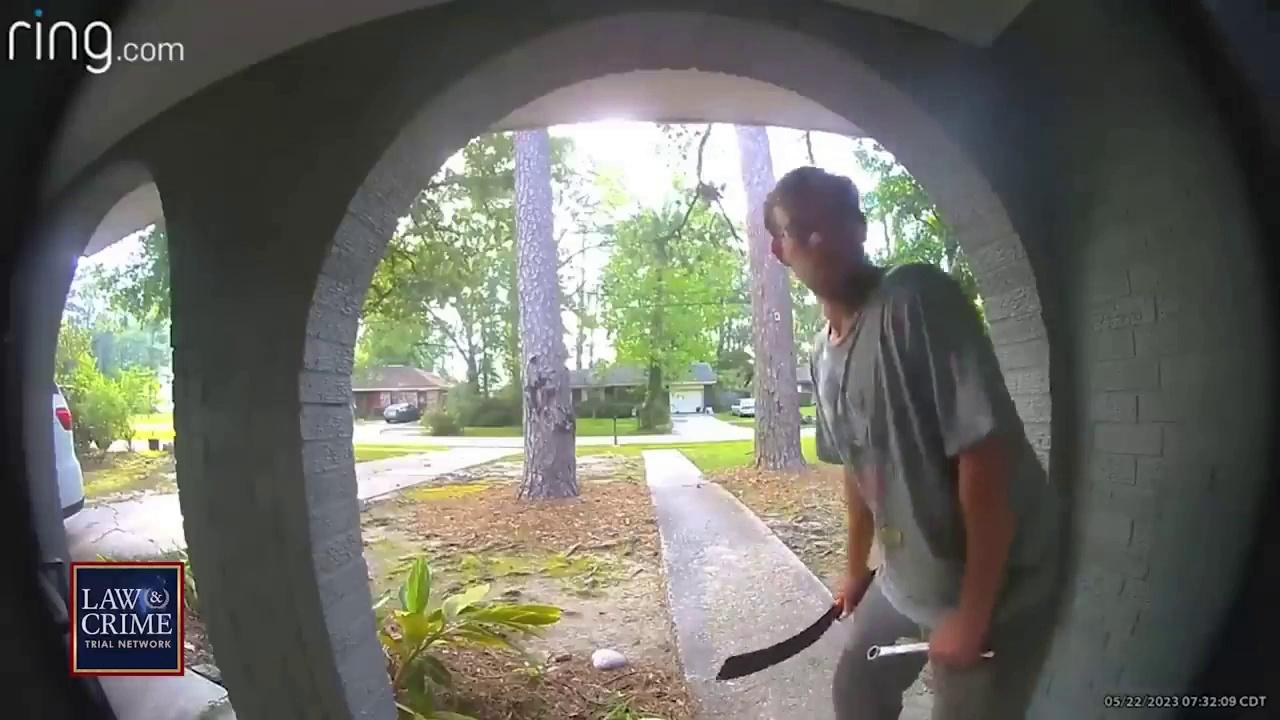suspicion: (702, 124, 1054, 720)
